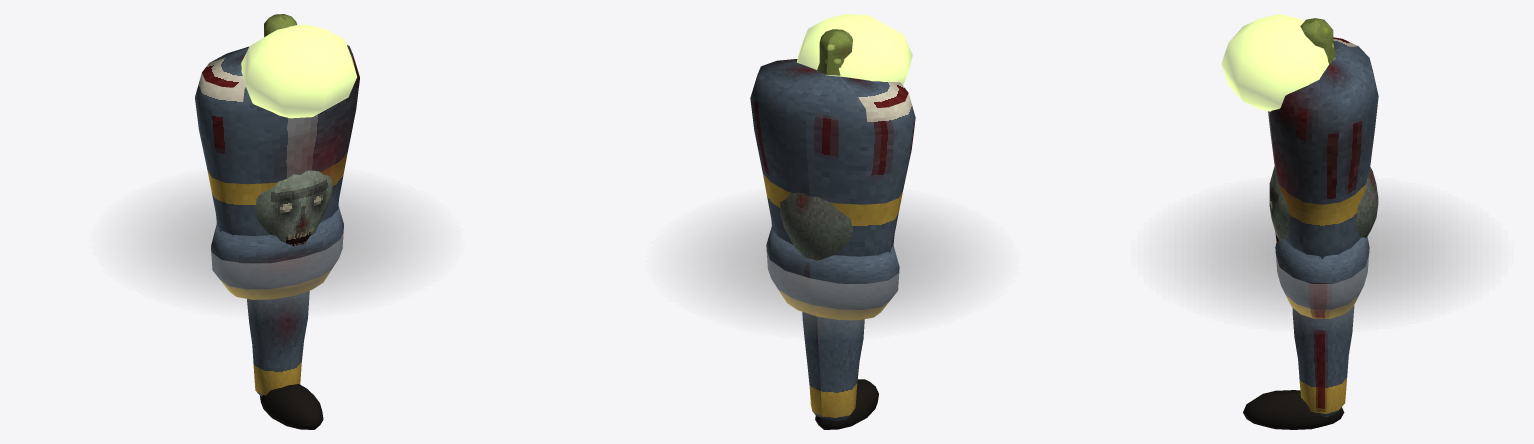
3 views of the same model, side by side, from view 1: azimuth 30°, elevation 25°; view 2: azimuth 150°, elevation 25°; view 3: azimuth 270°, elevation 25° (orthographic). The views are drawn at different scales.
Parts seen in each view (by area): view 1: root__x__11, spine__x__1, spine__x__3, core__x__0, legL1__x__12, head__h__4, legL2__x__14; view 2: root__x__11, spine__x__1, core__x__0, legL1__x__12, spine__x__3, head__h__4, spine__x__2, legL2__x__14; view 3: root__x__11, spine__x__1, spine__x__3, core__x__0, legL1__x__12, legL2__x__14, head__h__4, spine__x__2.
Part boxes in pixels (x1,y1,x2,y2): root__x__11: (116, 178, 438, 309); spine__x__1: (195, 45, 359, 235); spine__x__3: (241, 24, 356, 118); core__x__0: (211, 206, 343, 299); legL1__x__12: (247, 291, 309, 396); head__h__4: (254, 170, 332, 246); legL2__x__14: (260, 384, 323, 429); root__x__11: (671, 199, 994, 329); spine__x__1: (750, 59, 915, 256); core__x__0: (766, 226, 899, 320); legL1__x__12: (802, 312, 864, 420); spine__x__3: (797, 14, 912, 85); head__h__4: (780, 192, 853, 260); spine__x__2: (817, 29, 852, 75); legL2__x__14: (815, 379, 878, 429); root__x__11: (1156, 188, 1488, 323); spine__x__1: (1268, 37, 1378, 258); spine__x__3: (1221, 14, 1328, 111); core__x__0: (1275, 236, 1369, 318); legL1__x__12: (1292, 305, 1354, 417); legL2__x__14: (1243, 390, 1344, 429); head__h__4: (1269, 166, 1378, 243); spine__x__2: (1300, 18, 1335, 64).
Size of the model in its own units: 1.14 by 1.28 by 1.14.
Materials: 7 (5 with a texture image).
